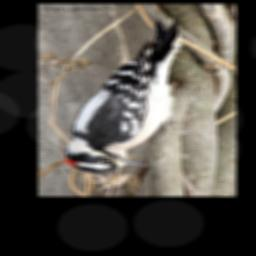Woodpecker: (65, 20, 185, 173)
